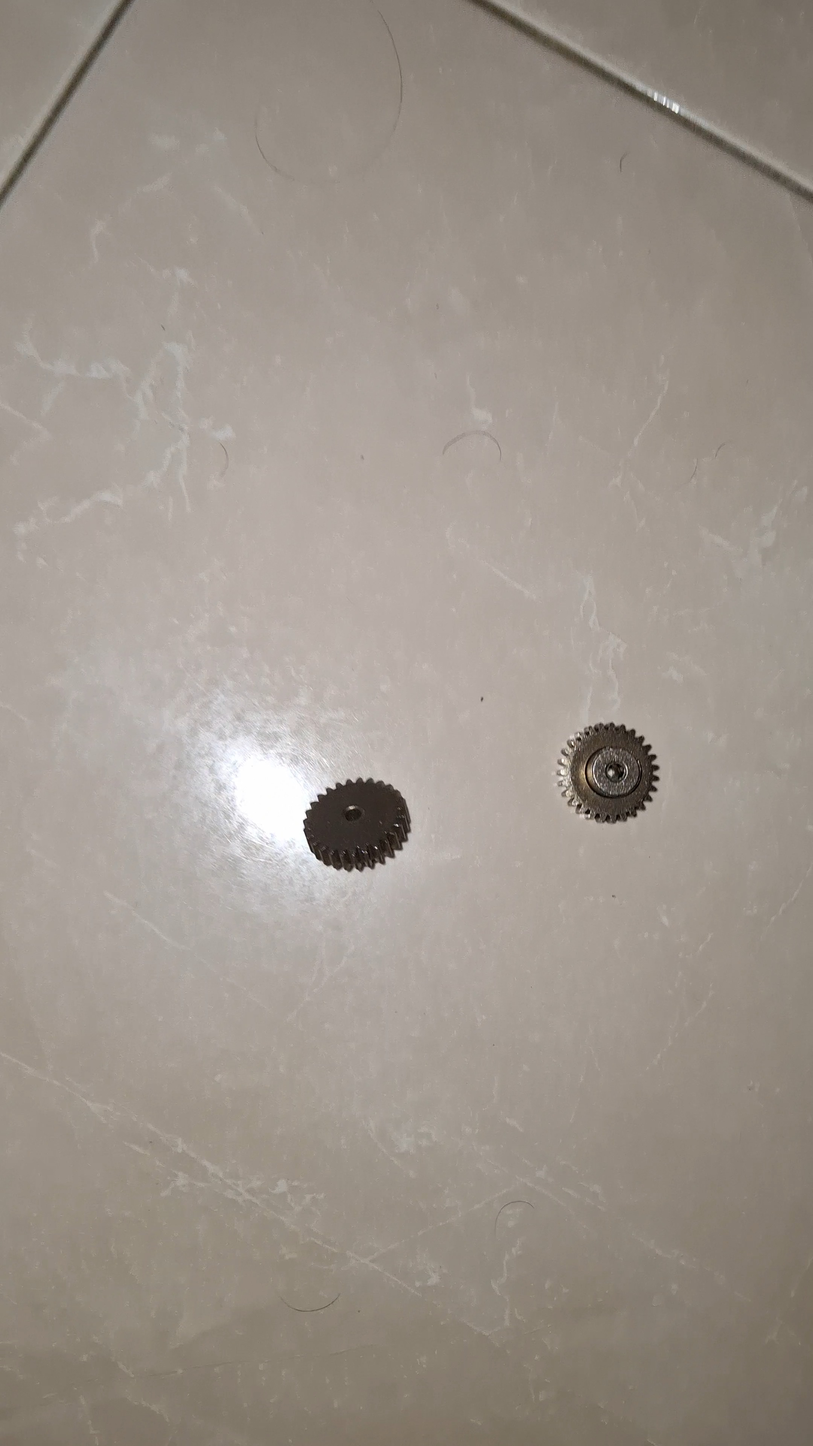spur gear: (558, 723, 658, 822), (304, 778, 410, 871)
